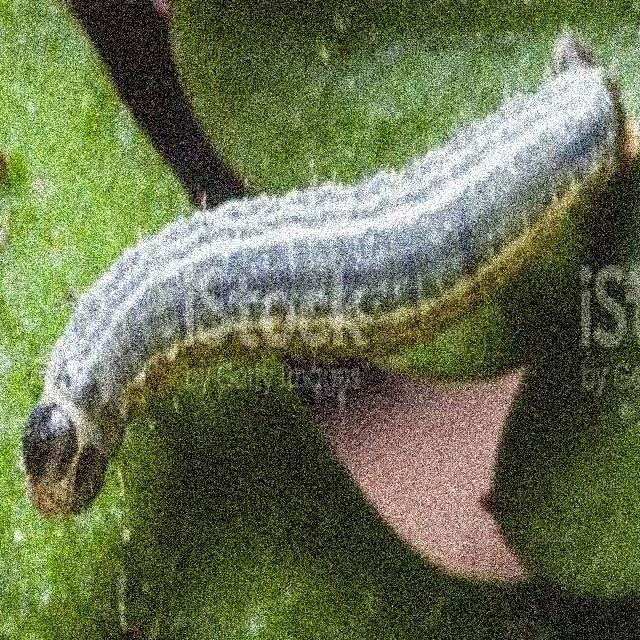worm: (21, 29, 634, 523)
